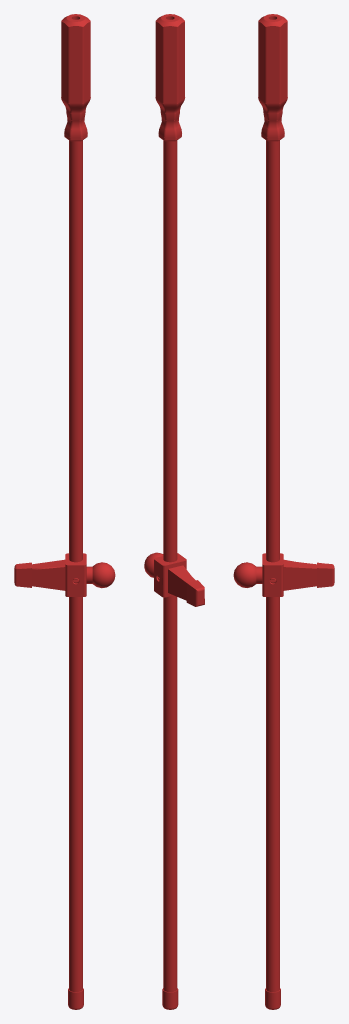
Rendered from 1-bar-centered_team_1.obj.
The picture shows the model from 3 angles, left to right: view 1: azimuth 90°, elevation 25°; view 2: azimuth 210°, elevation 25°; view 3: azimuth 270°, elevation 25°; orthographic projection.
Parts seen in each view (by area): view 1: 1-bar; view 2: 1-bar; view 3: 1-bar.
Boxes of the visible parts, x1=… form: 1-bar: x1=14, y1=14, x2=115, y2=1009; 1-bar: x1=144, y1=14, x2=204, y2=1009; 1-bar: x1=233, y1=14, x2=334, y2=1009.
Bounding box in the file's own units: 0.032 × 1.24 × 0.115.
